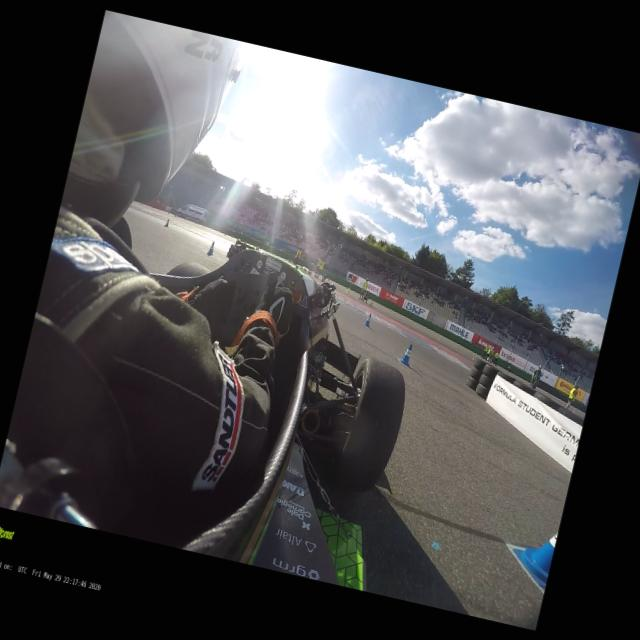blue_cone: (507, 497, 564, 588), (398, 341, 414, 367), (206, 240, 217, 256), (363, 312, 373, 327), (163, 218, 170, 228)
yellow_cone: (346, 287, 350, 293), (438, 335, 440, 340), (403, 316, 405, 321), (370, 302, 372, 306), (454, 343, 456, 347), (436, 333, 438, 337), (416, 322, 418, 325)
